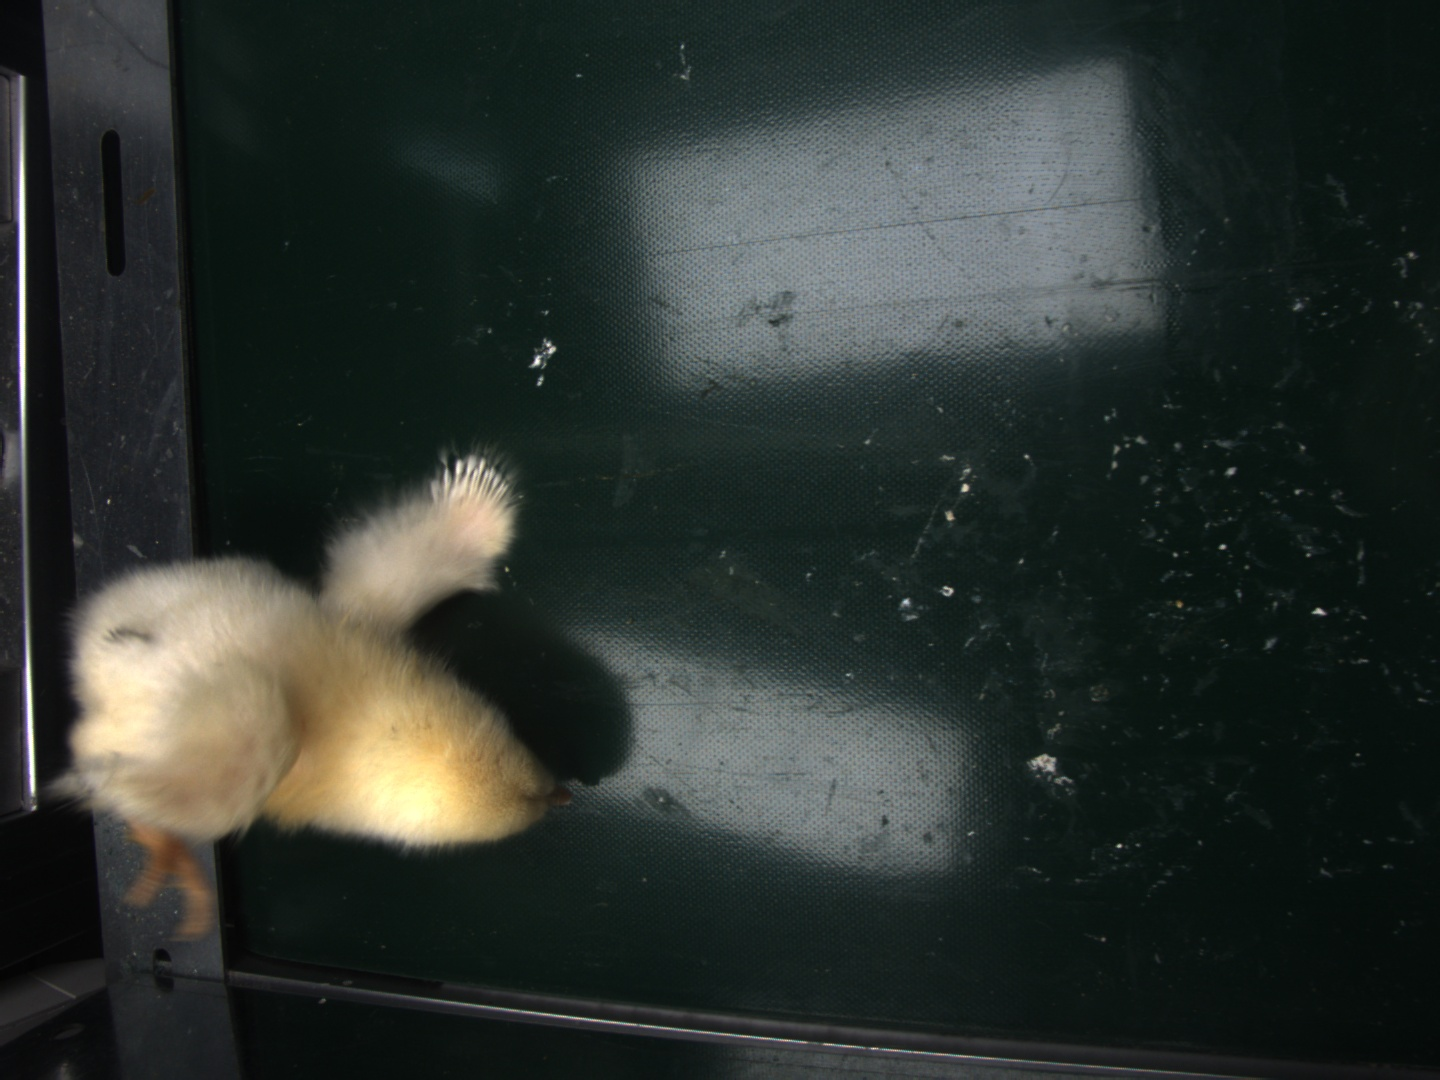male: (424, 445, 511, 518)
